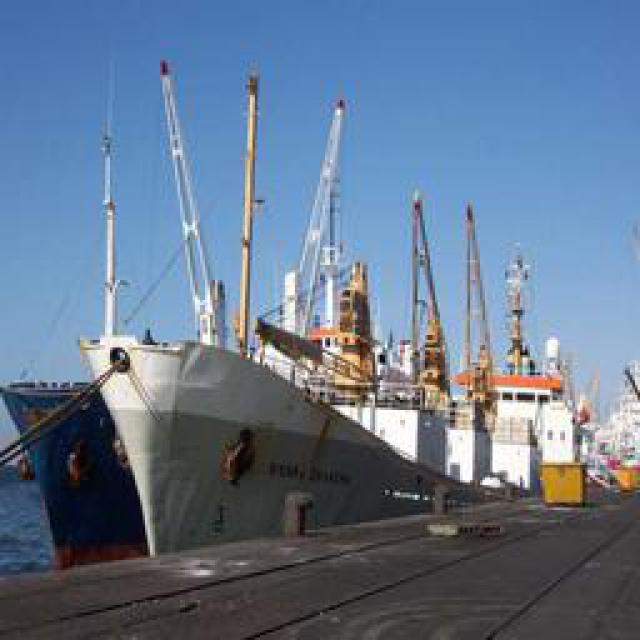Ship: (15, 52, 573, 575)
